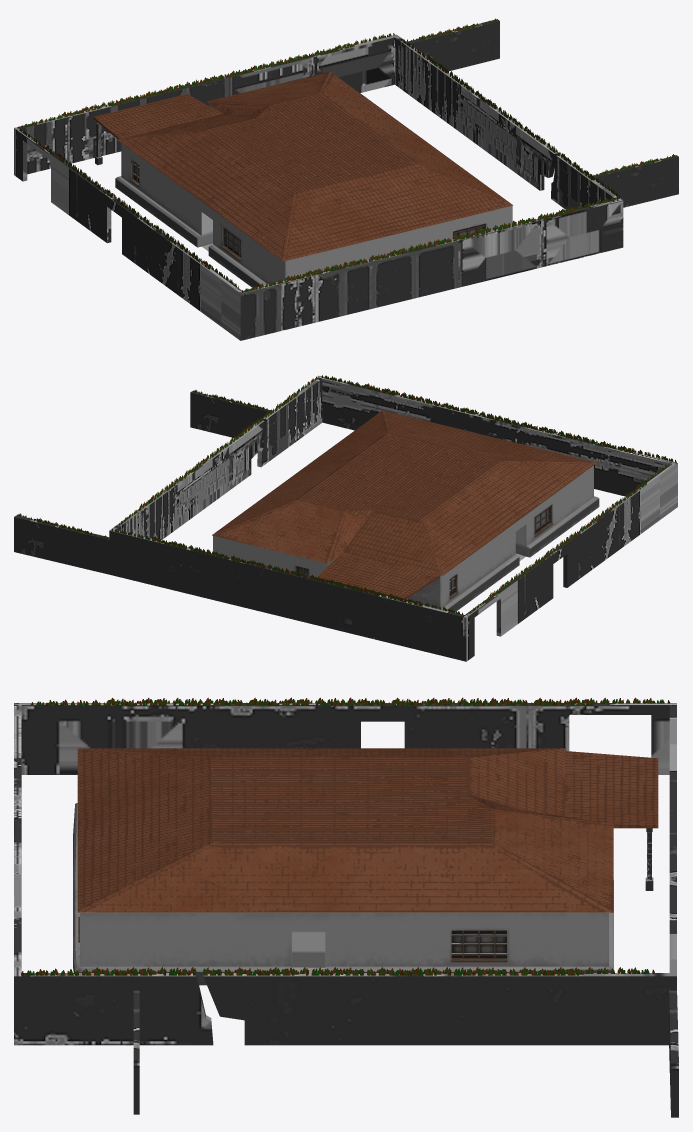
Rendered from house deputy.fbx.
3 renders of one model, top to bottom at view 1: azimuth 30°, elevation 25°; view 2: azimuth 150°, elevation 25°; view 3: azimuth 270°, elevation 25°, orthographic. The views are drawn at different scales.
Visible parts, largest first — view 1: House, Wall_1, Wall_2; view 2: House, Wall_1, Wall_2; view 3: House, Wall_1, Wall_2.
Part boxes in pixels (left/top/right/bottom): House: left=14, top=33, right=623, bottom=340; Wall_1: left=406, top=18, right=499, bottom=71; Wall_2: left=593, top=154, right=678, bottom=207; House: left=109, top=375, right=677, bottom=661; Wall_1: left=14, top=513, right=109, bottom=574; Wall_2: left=190, top=390, right=272, bottom=437; House: left=14, top=697, right=676, bottom=1045; Wall_1: left=669, top=990, right=678, bottom=1117; Wall_2: left=133, top=990, right=139, bottom=1114.
Size of the model in its own units: 3413 by 465 by 2766.
